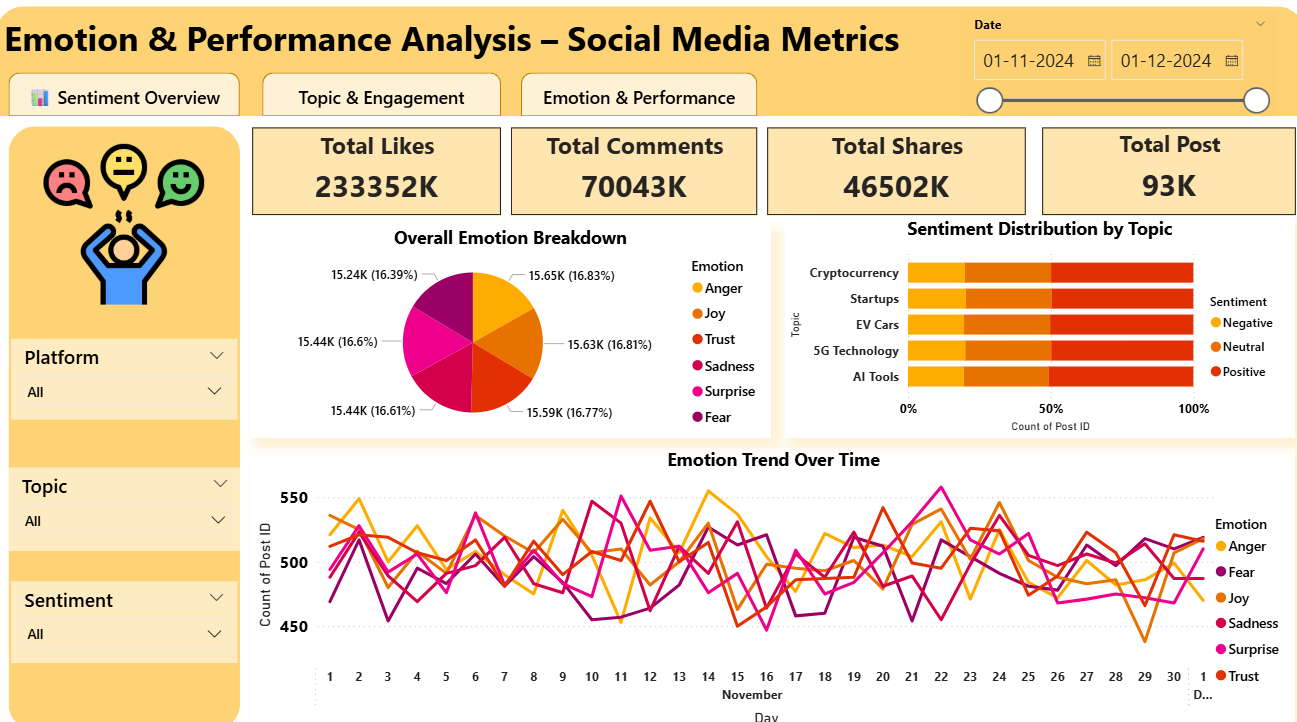

This screenshot's page, from the dashboard's own definition file:
{"tool":"powerbi","page":{"name":" Emotion & Performance Analysis","canvas":[1280,720],"ordinal":2},"visuals":[{"type":"shape","box":[0,11,1280.3,107.6],"z":0},{"type":"shape","box":[12.2,75.8,226.2,42.8],"z":1000},{"type":"shape","box":[260.5,75.8,233.6,42.8],"z":2000},{"type":"shape","box":[513.6,75.8,231.1,42.8],"z":3000},{"type":"shape","box":[12,128.4,226.5,591.6],"z":4000},{"type":"slicer","fields":{"Values":["Social_Media_Sentiment_Analysis_3.Platform"]},"box":[14.7,336.3,221.3,79.5],"z":5000},{"type":"slicer","fields":{"Values":["Social_Media_Sentiment_Analysis_3.Topic"]},"box":[12.2,462.2,227.4,81.9],"z":6000},{"type":"slicer","fields":{"Values":["Social_Media_Sentiment_Analysis_3.Sentiment"]},"box":[15,573.8,221.2,80],"z":7000},{"type":"slicer","fields":{"Values":["Social_Media_Sentiment_Analysis_3.Date"]},"box":[944,15.9,310.6,102.7],"z":8000},{"type":"lineChart","title":"Emotion Trend Over Time","fields":{"Category":["Social_Media_Sentiment_Analysis_3.Date.Variation.Date Hierarchy.Month","Social_Media_Sentiment_Analysis_3.Date.Variation.Date Hierarchy.Day"],"Series":["Social_Media_Sentiment_Analysis_3.Emotion"],"Y":["CountNonNull(Social_Media_Sentiment_Analysis_3.Post ID)"]},"box":[250.7,442.7,1019.8,277.6],"z":9000},{"type":"pieChart","title":"Overall Emotion Breakdown","fields":{"Category":["Social_Media_Sentiment_Analysis_3.Emotion"],"Y":["CountNonNull(Social_Media_Sentiment_Analysis_3.Post ID)"]},"box":[248.2,225,509.9,207.9],"z":10000},{"type":"image","box":[36.2,138.8,176.2,172.5],"z":11000},{"type":"hundredPercentStackedBarChart","title":"Sentiment Distribution by Topic","fields":{"Category":["Social_Media_Sentiment_Analysis_3.Topic"],"Y":["CountNonNull(Social_Media_Sentiment_Analysis_3.Post ID)"],"Series":["Social_Media_Sentiment_Analysis_3.Sentiment"]},"box":[771.6,216.4,498.9,216.4],"z":12000},{"type":"card","title":"Total Shares","fields":{"Values":["Sum(Social_Media_Sentiment_Analysis_3.Shares)"]},"box":[754.5,129.6,253.1,85.6],"z":13000},{"type":"card","title":"Total Post","fields":{"Values":["CountNonNull(Social_Media_Sentiment_Analysis_3.Post ID)"]},"box":[1023.5,129.6,248.2,85.6],"z":14000},{"type":"card","title":"Total Comments","fields":{"Values":["Sum(Social_Media_Sentiment_Analysis_3.Comments)"]},"box":[503.8,129.6,240.9,85.6],"z":15000},{"type":"card","title":"Total Likes ","fields":{"Values":["Sum(Social_Media_Sentiment_Analysis_3.Likes)"]},"box":[250.7,129.6,243.3,85.6],"z":16000}]}

Visuals, with their boxes in screenshot pixels (x1, y1, x2, y2), scaled from the page's 1280x720 canvas onto the 1297x722 screenshot:
shape: [left=0, top=11, right=1296, bottom=119]
shape: [left=12, top=76, right=242, bottom=119]
shape: [left=264, top=76, right=501, bottom=119]
shape: [left=520, top=76, right=755, bottom=119]
shape: [left=12, top=129, right=242, bottom=721]
slicer - Social_Media_Sentiment_Analysis_3.Platform: [left=15, top=337, right=239, bottom=417]
slicer - Social_Media_Sentiment_Analysis_3.Topic: [left=12, top=463, right=243, bottom=546]
slicer - Social_Media_Sentiment_Analysis_3.Sentiment: [left=15, top=575, right=239, bottom=656]
slicer - Social_Media_Sentiment_Analysis_3.Date: [left=957, top=16, right=1271, bottom=119]
"Emotion Trend Over Time" lineChart: [left=254, top=444, right=1287, bottom=721]
"Overall Emotion Breakdown" pieChart: [left=251, top=226, right=768, bottom=434]
image: [left=37, top=139, right=215, bottom=312]
"Sentiment Distribution by Topic" hundredPercentStackedBarChart: [left=782, top=217, right=1287, bottom=434]
"Total Shares" card: [left=765, top=130, right=1021, bottom=216]
"Total Post" card: [left=1037, top=130, right=1289, bottom=216]
"Total Comments" card: [left=510, top=130, right=755, bottom=216]
"Total Likes " card: [left=254, top=130, right=501, bottom=216]
